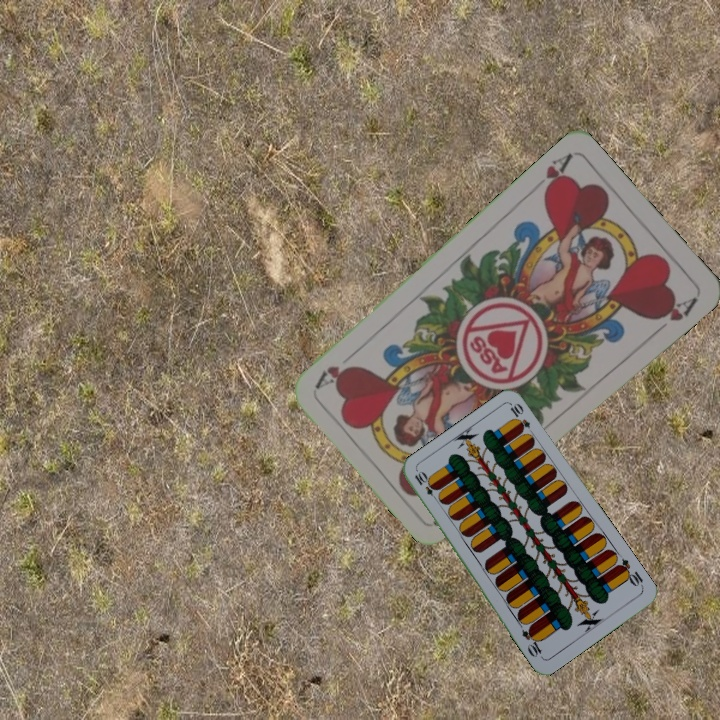E10: (613, 555, 646, 590), (410, 468, 442, 504)
HA: (526, 149, 575, 199)
